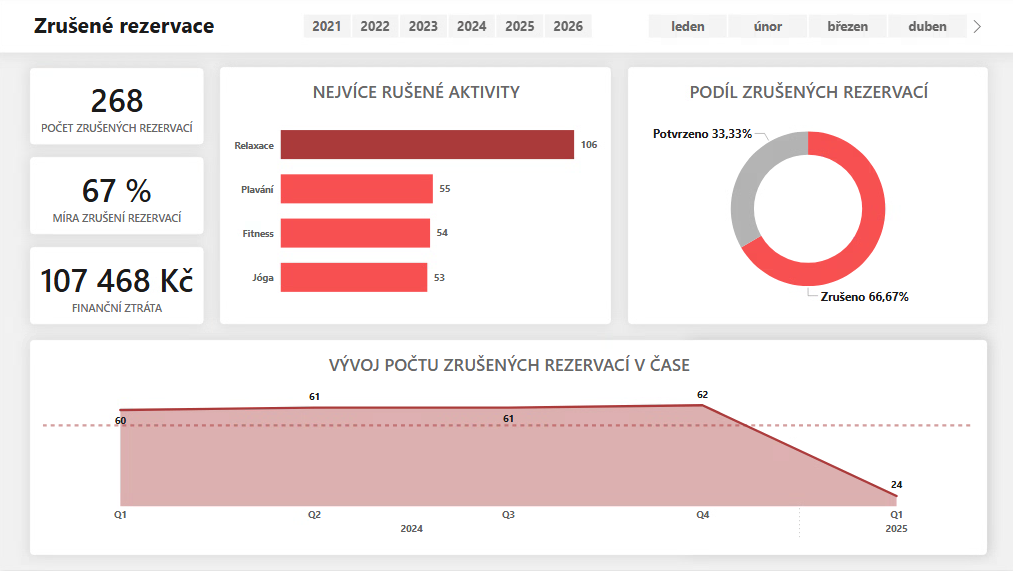

This screenshot's page, from the dashboard's own definition file:
{"tool":"powerbi","page":{"name":"Zrušené rezervace","canvas":[1280,720],"ordinal":4},"visuals":[{"type":"pivotTable","title":"VĚKOVÁ SKUPINA VS AKTIVITA","fields":{"Rows":["Zakaznici.VekInterval"],"Columns":["Aktivity.Typ"],"Values":["CountNonNull(Rezervace.RezervaceID)"]},"box":[869.9,431.2,371.6,264.7],"z":0},{"type":"donutChart","title":"PODÍL ZRUŠENÝCH REZERVACÍ","fields":{"Category":["Rezervace.Stav"],"Y":["CountNonNull(Rezervace.RezervaceID)"]},"box":[791.6,88.2,452.3,323.1],"z":1000},{"type":"clusteredBarChart","title":"NEJVÍCE RUŠENÉ AKTIVITY","fields":{"Category":["Aktivity.Nazev"],"Y":["Rezervace.PocetZrusenychRezervaci"]},"box":[278.4,88.2,490.9,323.1],"z":2000},{"type":"shape","box":[0,0,1280,69.6],"z":3000},{"type":"textbox","box":[39.6,10.8,317.9,49.2],"z":4000},{"type":"card","title":"UNIKÁTNÍ KLIENTI","fields":{"Values":["Rezervace.PocetZrusenychRezervaci"]},"box":[40.5,88.7,218,96.5],"z":5000},{"type":"card","title":"UNIKÁTNÍ KLIENTI","fields":{"Values":["Rezervace.MiraZruseniProcenta"]},"box":[40.6,200.9,218,97.2],"z":6000},{"type":"card","title":"UNIKÁTNÍ KLIENTI","fields":{"Values":["Rezervace.UslyZisk"]},"box":[40.6,314.1,218,97.2],"z":7000},{"type":"slicer","title":"ROK","fields":{"Values":["Kalendar.Rok Hierarchy.Rok"]},"box":[358.1,15.4,411.6,41.2],"z":8000},{"type":"slicer","title":"ROK","fields":{"Values":["Kalendar.Rok Hierarchy.Měsíc"]},"box":[791.3,15.4,449.6,40.1],"z":9000},{"type":"areaChart","title":"VÝVOJ POČTU ZRUŠENÝCH REZERVACÍ V ČASE","fields":{"Y":["Rezervace.PocetZrusenychRezervaci"],"Category":["Kalendar.Rok Hierarchy.Rok","Kalendar.Rok Hierarchy.Čtvrtletí","Kalendar.Rok Hierarchy.Měsíc"]},"box":[39.6,430.7,1202,269.9],"z":10000}]}

Visuals, with their boxes in screenshot pixels (x1, y1, x2, y2), scaled from the page's 1280x720 canvas onto the 1013x571 screenshot:
"VĚKOVÁ SKUPINA VS AKTIVITA" pivotTable: {"left": 688, "top": 342, "right": 983, "bottom": 552}
"PODÍL ZRUŠENÝCH REZERVACÍ" donutChart: {"left": 626, "top": 70, "right": 984, "bottom": 326}
"NEJVÍCE RUŠENÉ AKTIVITY" clusteredBarChart: {"left": 220, "top": 70, "right": 609, "bottom": 326}
shape: {"left": 0, "top": 0, "right": 1012, "bottom": 55}
textbox: {"left": 31, "top": 9, "right": 283, "bottom": 48}
"UNIKÁTNÍ KLIENTI" card: {"left": 32, "top": 70, "right": 205, "bottom": 147}
"UNIKÁTNÍ KLIENTI" card: {"left": 32, "top": 159, "right": 205, "bottom": 236}
"UNIKÁTNÍ KLIENTI" card: {"left": 32, "top": 249, "right": 205, "bottom": 326}
"ROK" slicer: {"left": 283, "top": 12, "right": 609, "bottom": 45}
"ROK" slicer: {"left": 626, "top": 12, "right": 982, "bottom": 44}
"VÝVOJ POČTU ZRUŠENÝCH REZERVACÍ V ČASE" areaChart: {"left": 31, "top": 342, "right": 983, "bottom": 556}
